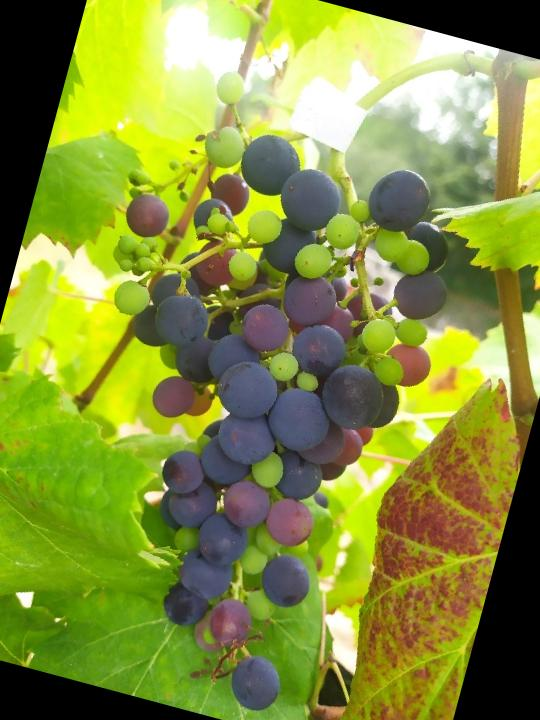grape: (6, 48, 495, 720)
